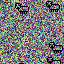sheep: (48, 42, 64, 54), (46, 1, 60, 13), (15, 3, 29, 14), (47, 57, 61, 64)
